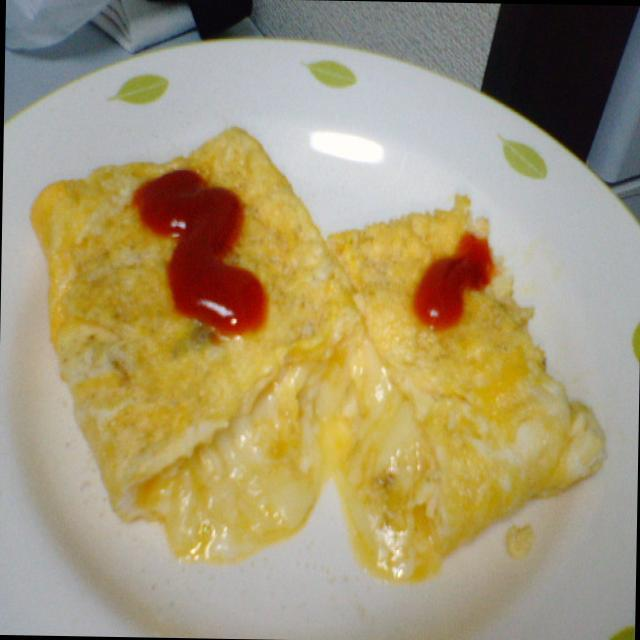Omelet: (32, 108, 614, 552)
